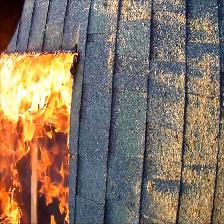fire: (1, 51, 79, 221)
